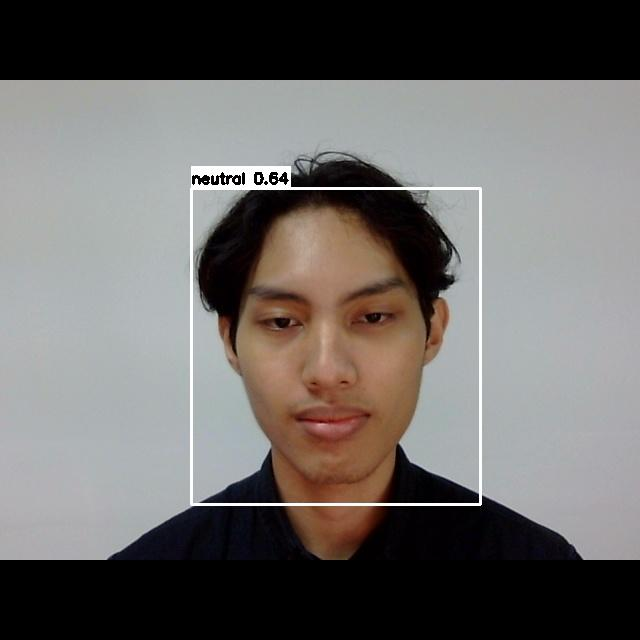Natural: (229, 268, 429, 459)
